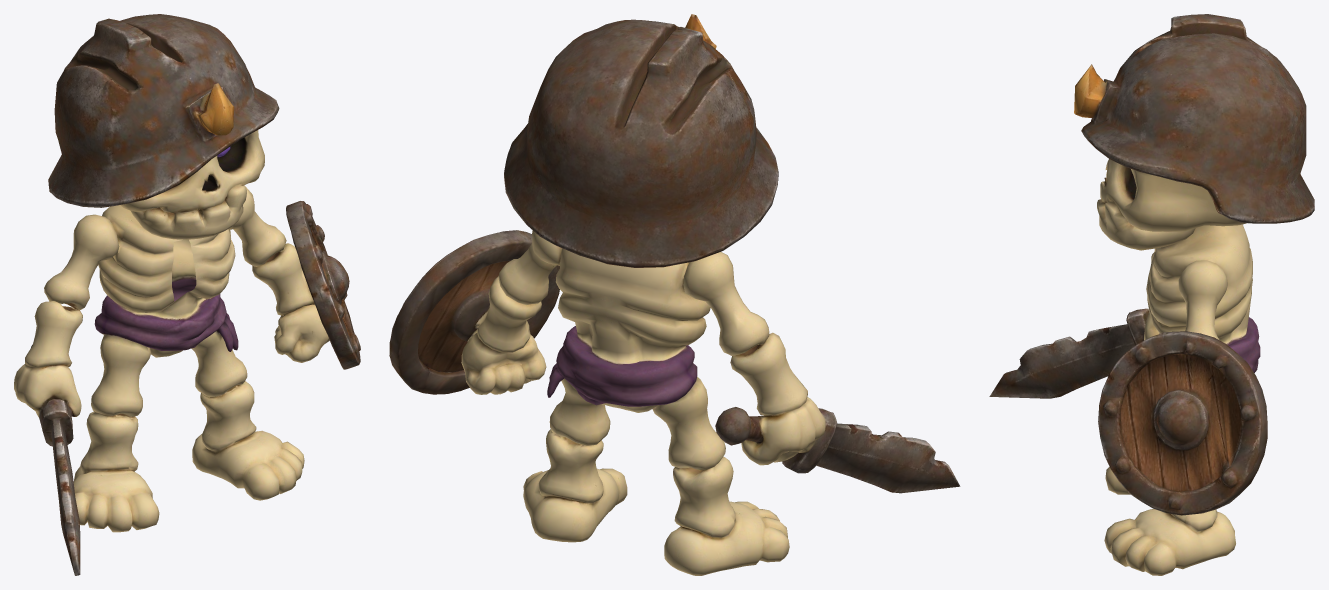
File: Skeleton.glb
3 renders of one model, left to right at view 1: azimuth 30°, elevation 25°; view 2: azimuth 150°, elevation 25°; view 3: azimuth 270°, elevation 25°, orthographic. The views are drawn at different scales.
Visible parts, largest first — view 1: tripo_node_75dda943-8798-4cd0-a323-5831f66e63ac; view 2: tripo_node_75dda943-8798-4cd0-a323-5831f66e63ac; view 3: tripo_node_75dda943-8798-4cd0-a323-5831f66e63ac.
Part boxes in pixels (x1=…): tripo_node_75dda943-8798-4cd0-a323-5831f66e63ac: x1=14, y1=14, x2=360, y2=575; tripo_node_75dda943-8798-4cd0-a323-5831f66e63ac: x1=389, y1=14, x2=960, y2=575; tripo_node_75dda943-8798-4cd0-a323-5831f66e63ac: x1=989, y1=14, x2=1314, y2=575.
Size of the model in its own units: 0.8514 by 0.9777 by 0.595.
Materials: 1 (1 with a texture image).
